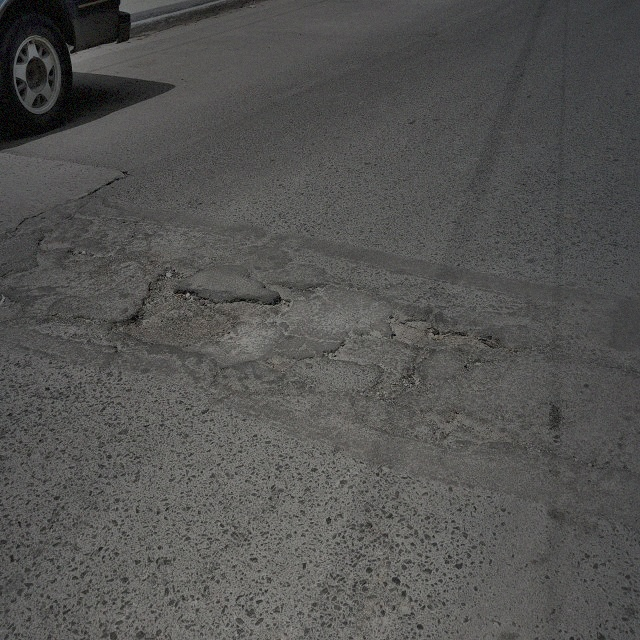pothole: (114, 259, 285, 361), (387, 306, 496, 358), (427, 406, 505, 448), (326, 328, 376, 370)
